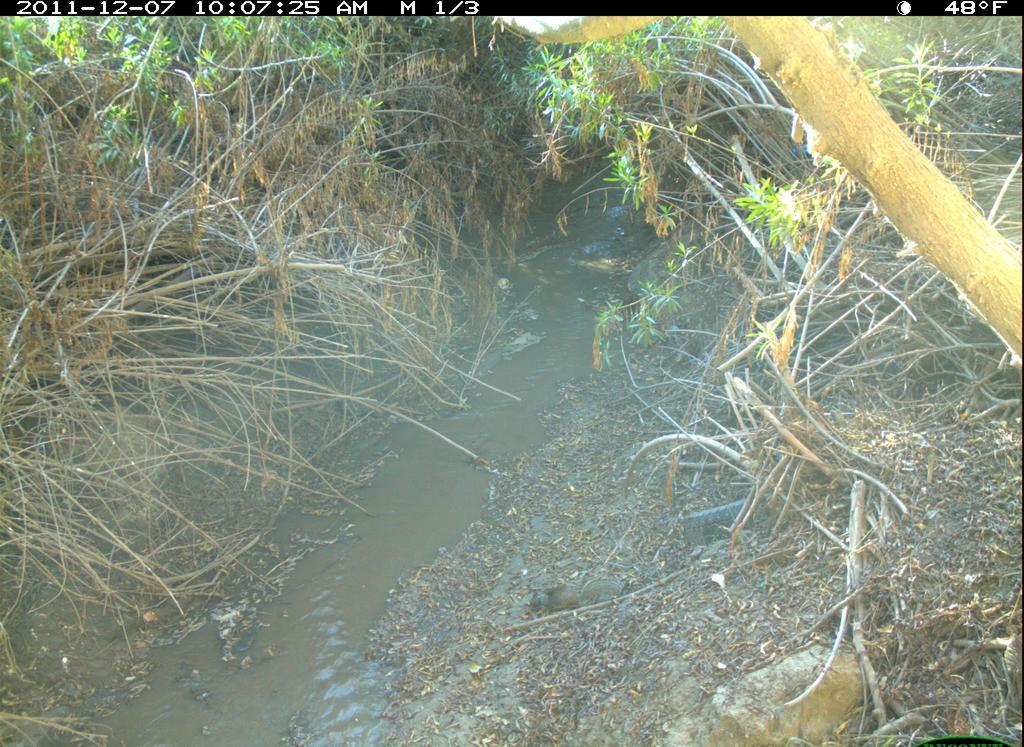squirrel: (519, 566, 633, 620)
